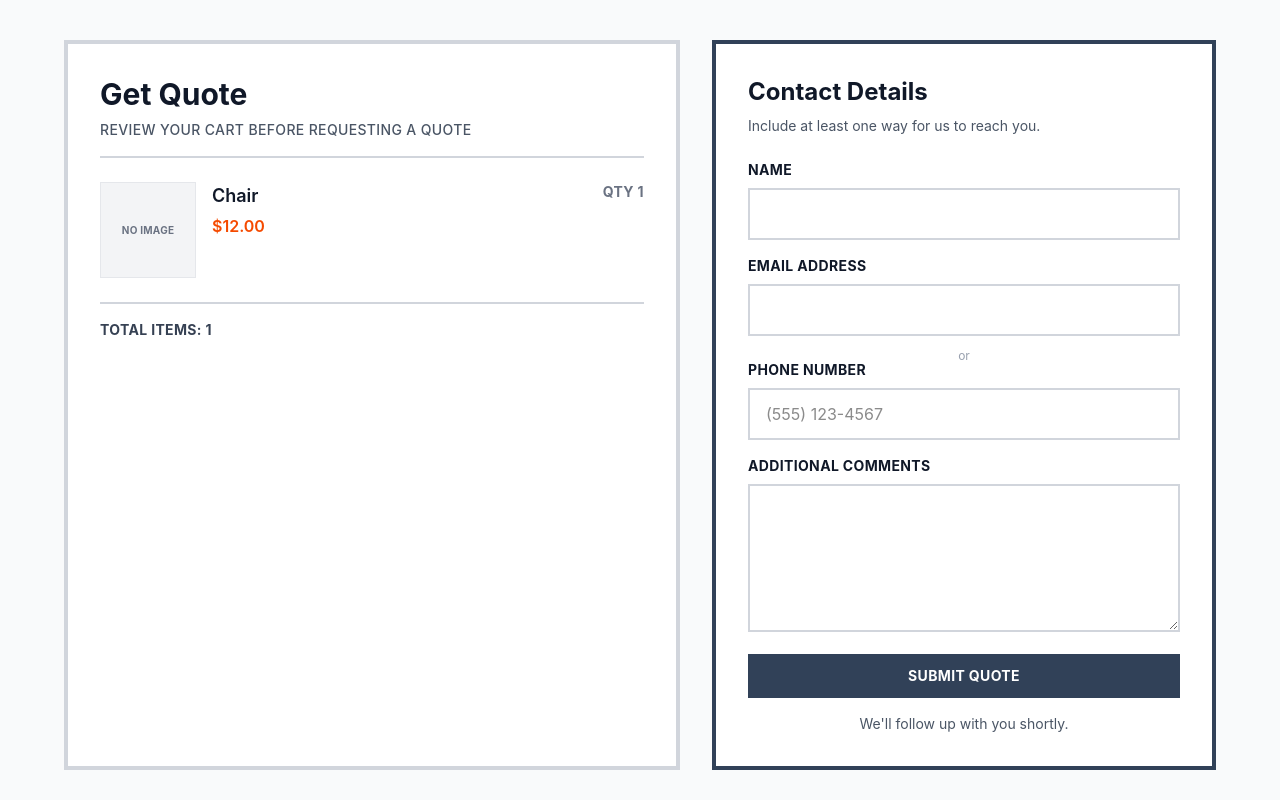
it: CheckoutPage › rejects an invalid phone number
Type "Alex Smith" into the field labelled "Name" at x=964, y=214, box [748, 188, 1180, 240]
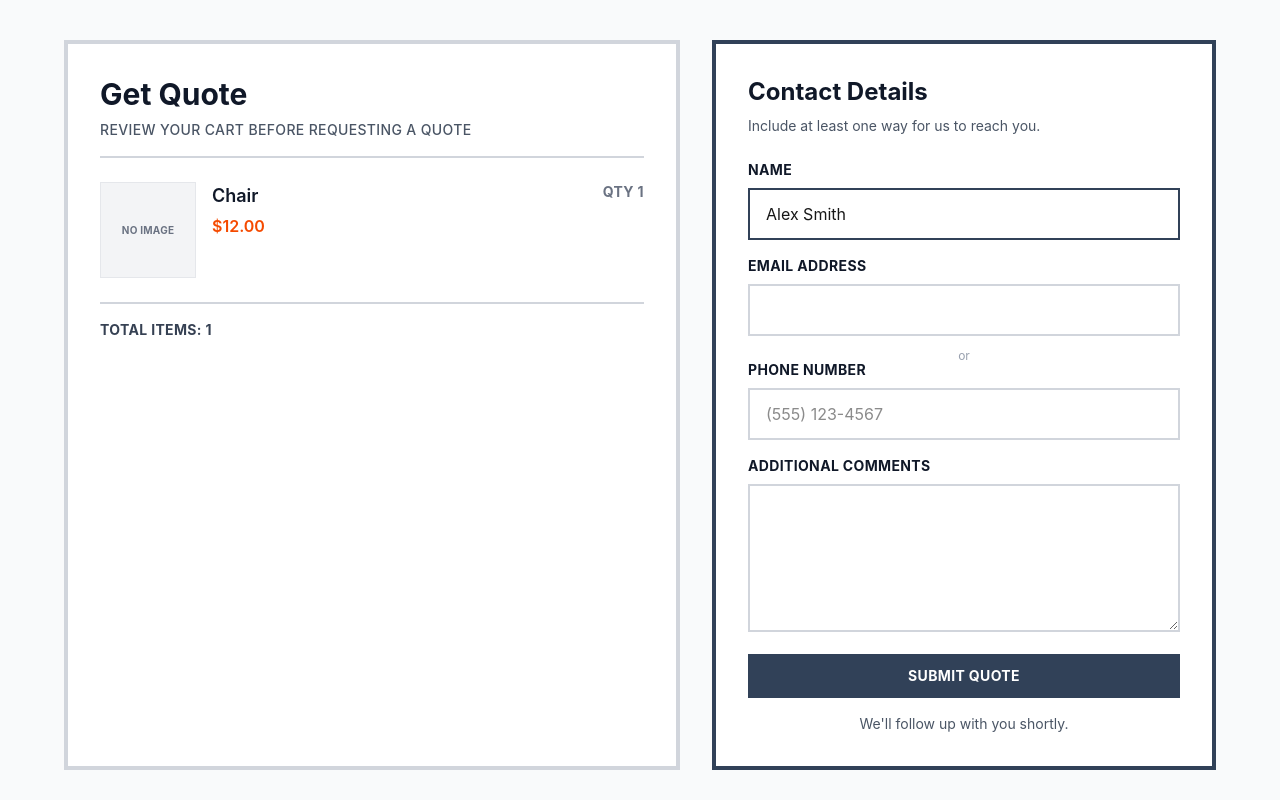
Type "123" into the field labelled "Phone Number" at x=964, y=414, box [748, 388, 1180, 440]
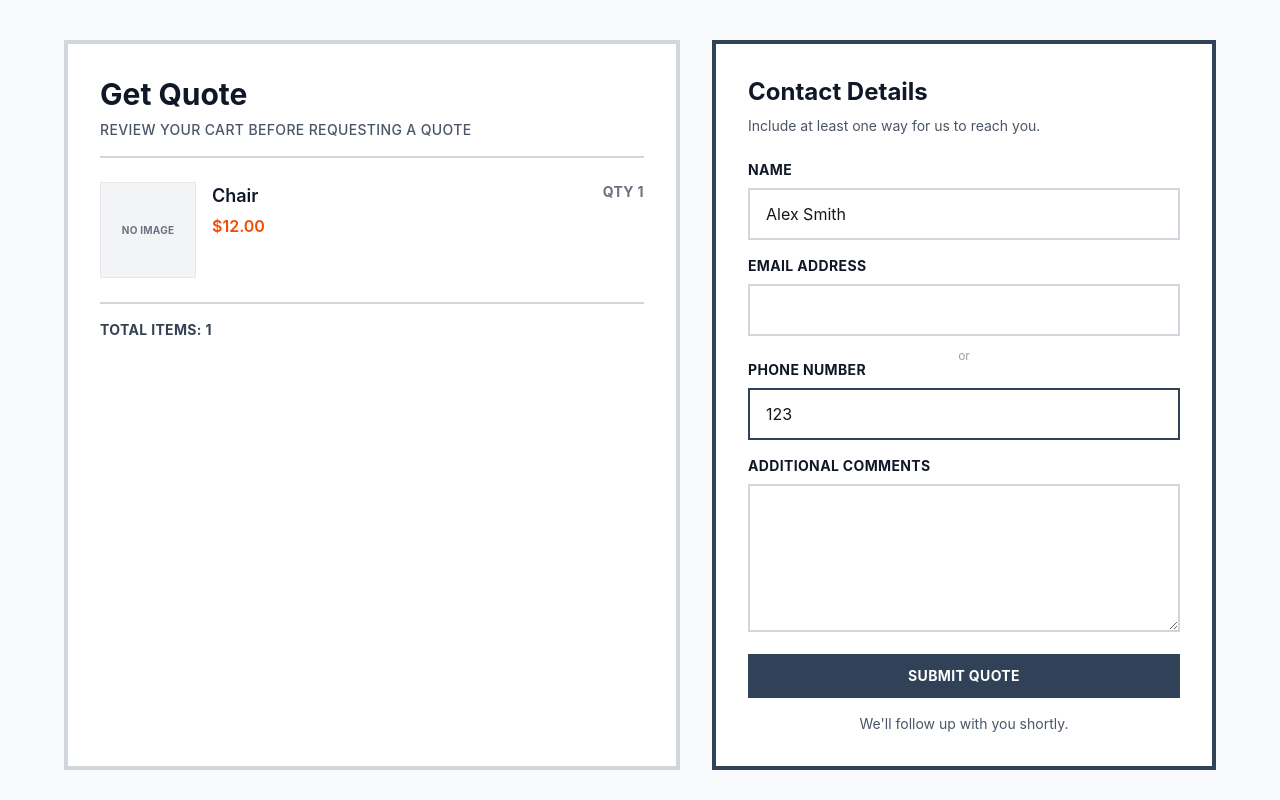
Click the button "Submit Quote" at x=964, y=676, box [748, 654, 1180, 698]
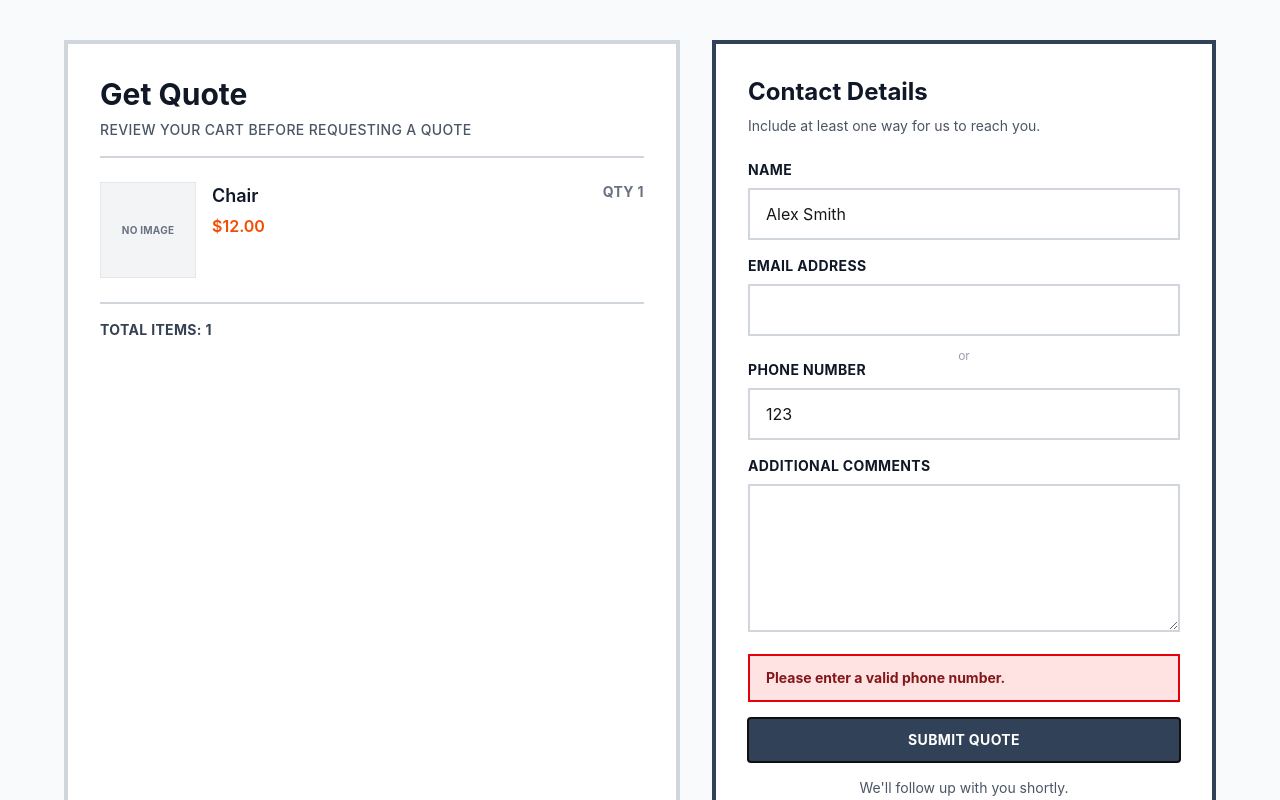
Check: the text "Please enter a valid phone number." is shown, box [766, 669, 1005, 686]
